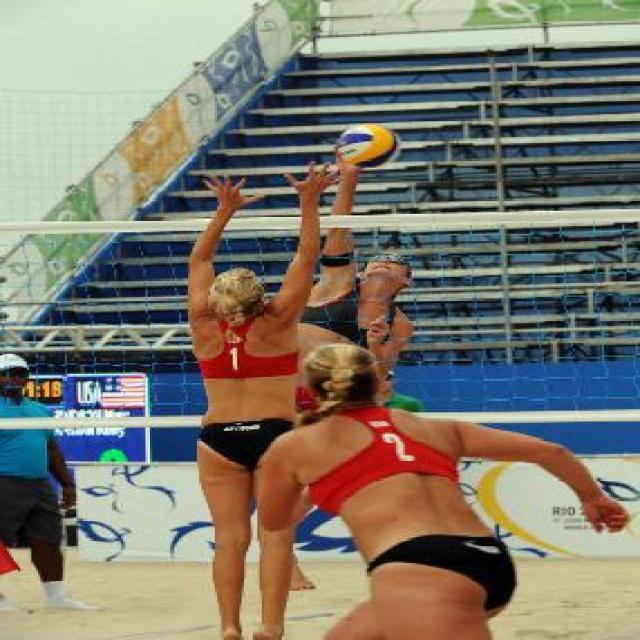volleyball: (338, 123, 399, 169)
